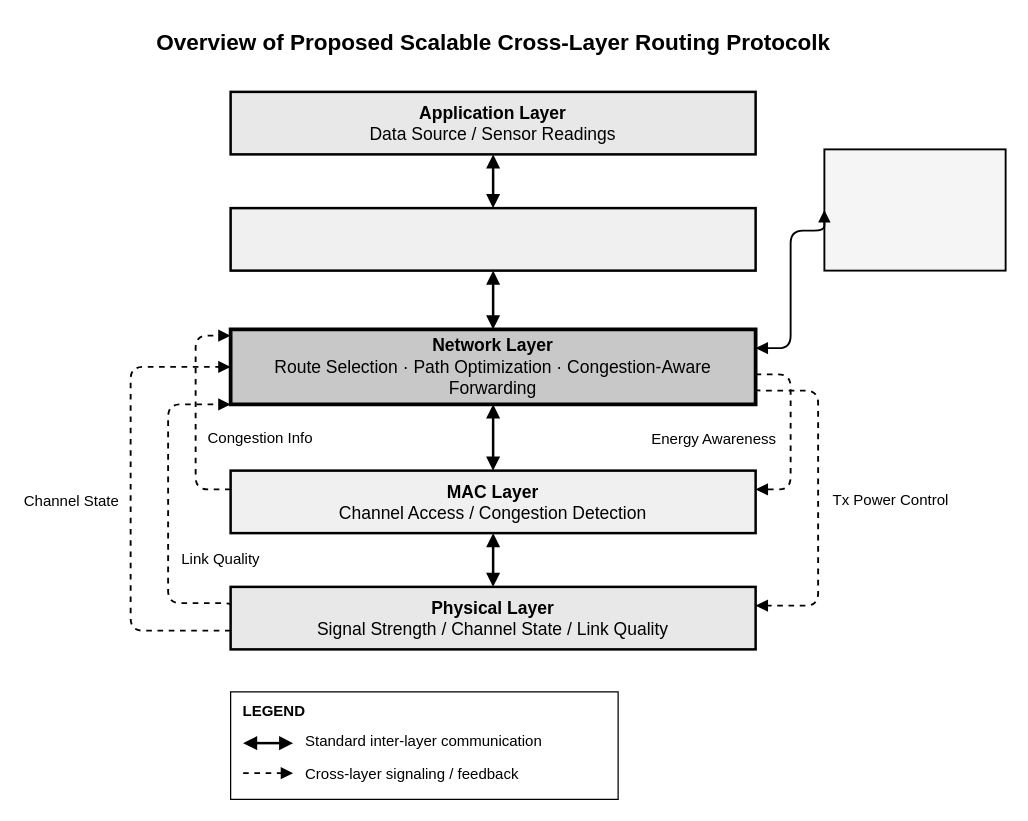
The diagram is 1028 pixels wide and 821 high, and some of its shapes have lost their labels. Here are the shapes that lost their labels. From the top down, the centre of each, then its label:
[914,209]: Cross-Layer Optimization Module Adaptive · Scalable
[492,238]: Transport Layer Flow Control / Reliability
